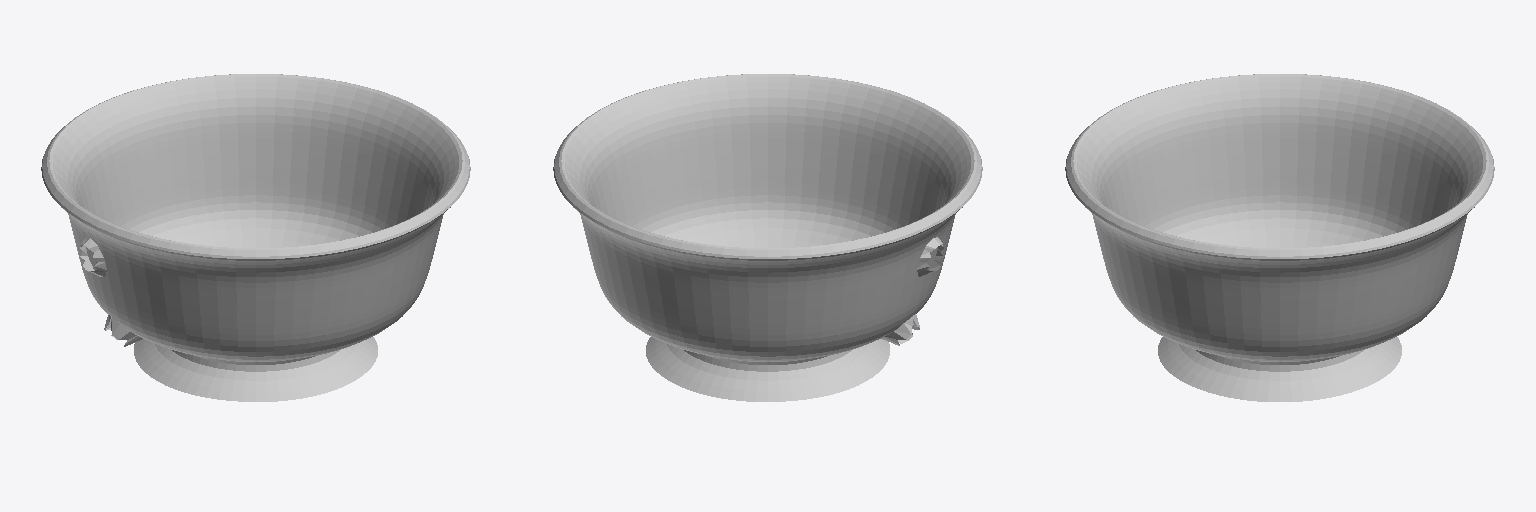
File: cup.obj
3 renders of one model, left to right at view 1: azimuth 30°, elevation 25°; view 2: azimuth 150°, elevation 25°; view 3: azimuth 270°, elevation 25°, orthographic.
Parts seen in each view (by area): view 1: cup:Mesh; view 2: cup:Mesh; view 3: cup:Mesh.
Boxes of the visible parts, box(x1,y1,x2,y2) form: cup:Mesh: box(41, 74, 470, 401); cup:Mesh: box(553, 74, 982, 401); cup:Mesh: box(1065, 74, 1494, 401).
Size of the model in its own units: 5.47 by 2.67 by 5.47.